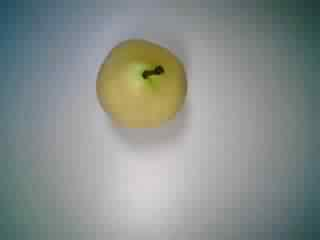pear: (86, 32, 191, 135)
